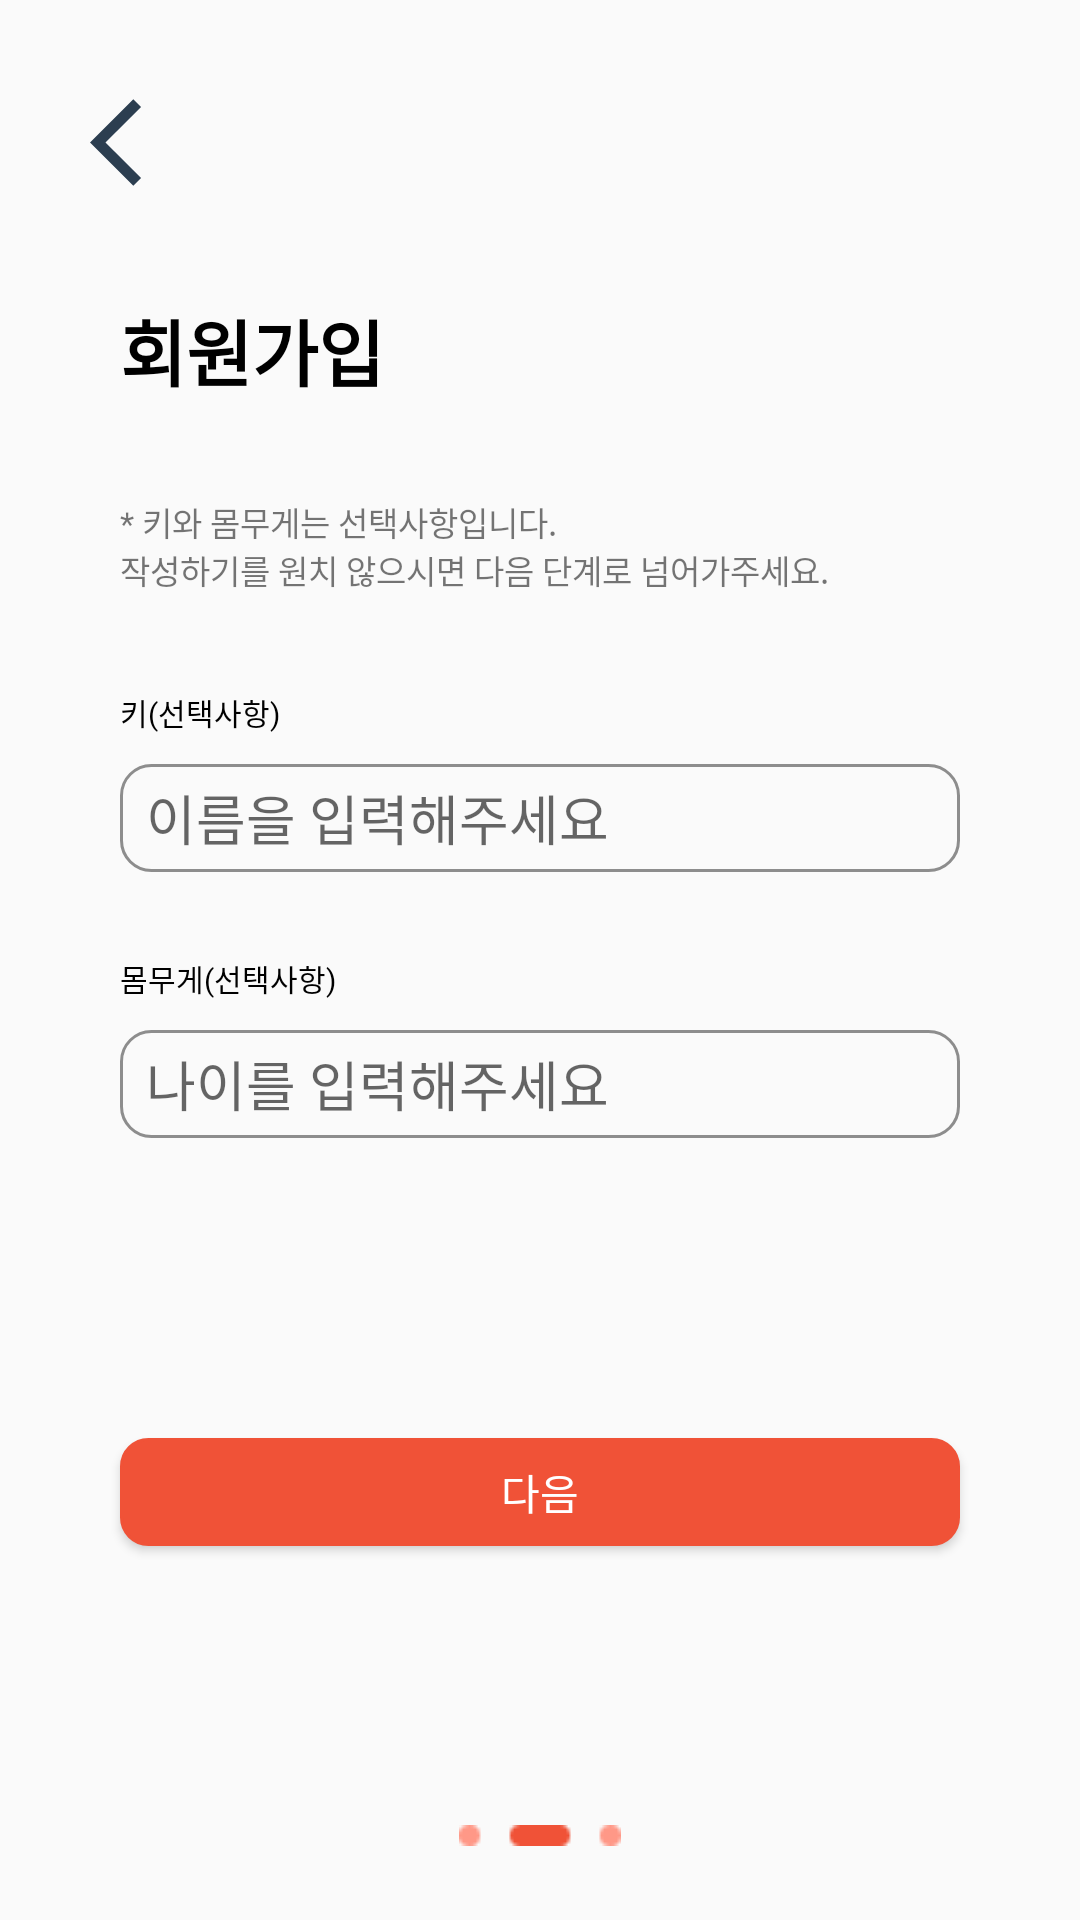

Screen size 1080w x 1920h. Icon name, then its center in pixels as [x,y]:
arrow back: [115,142]
